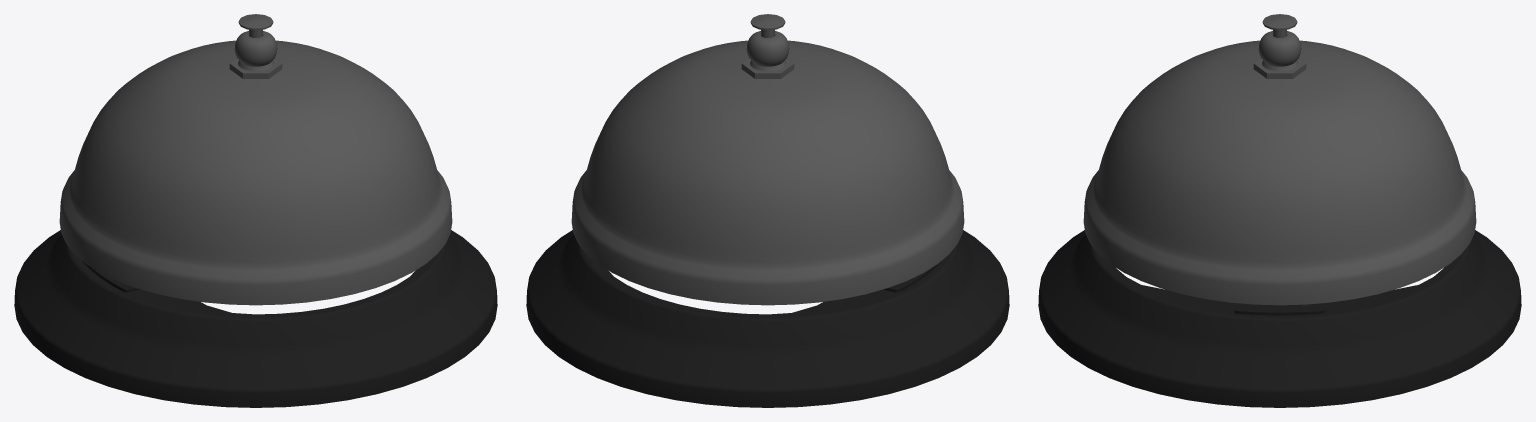
File: bell.glb
3 renders of one model, left to right at view 1: azimuth 30°, elevation 25°; view 2: azimuth 150°, elevation 25°; view 3: azimuth 270°, elevation 25°, orthographic.
Parts seen in each view (by area): view 1: Dome, Base, Screw, Button; view 2: Dome, Base, Screw, Button; view 3: Dome, Base, Screw, Connectors, Button.
Boxes of the visible parts, bbox=[...] form: Dome: bbox=[59, 40, 452, 305]; Base: bbox=[14, 230, 497, 407]; Screw: bbox=[229, 31, 282, 78]; Button: bbox=[238, 14, 273, 37]; Dome: bbox=[571, 40, 964, 305]; Base: bbox=[526, 230, 1009, 407]; Screw: bbox=[741, 31, 794, 78]; Button: bbox=[750, 14, 785, 37]; Dome: bbox=[1083, 40, 1476, 305]; Base: bbox=[1038, 230, 1521, 407]; Screw: bbox=[1253, 31, 1306, 78]; Connectors: bbox=[1234, 303, 1325, 315]; Button: bbox=[1262, 14, 1297, 37].
Size of what is drawn, in the model's own units: 85.85 by 56.23 by 85.85.
Materials: 2 (1 with a texture image).
